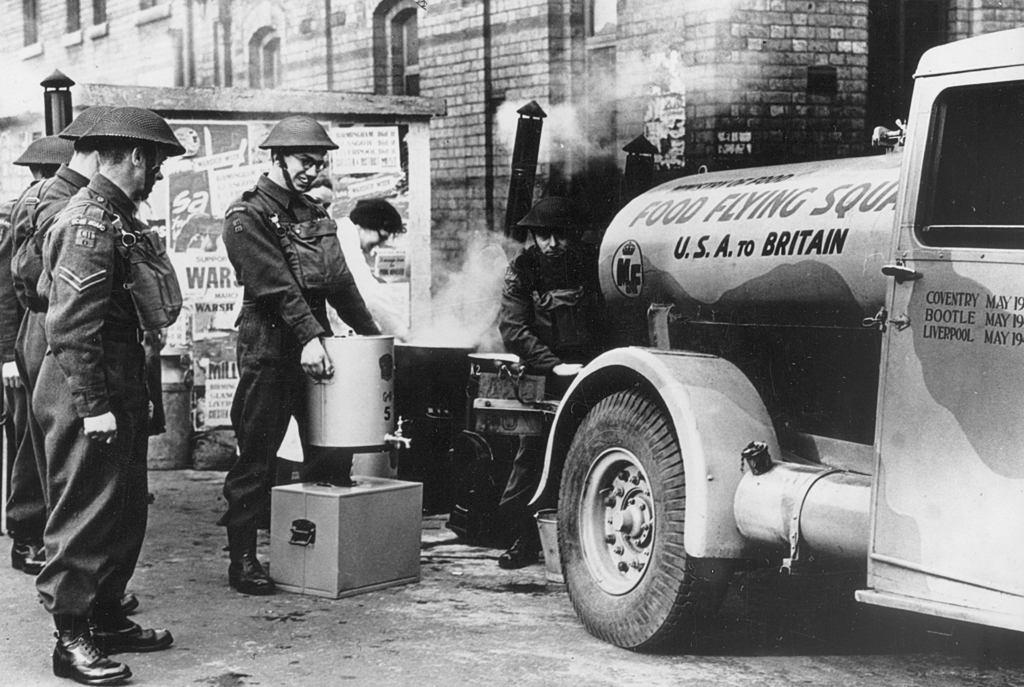Car: (519, 23, 1023, 650)
